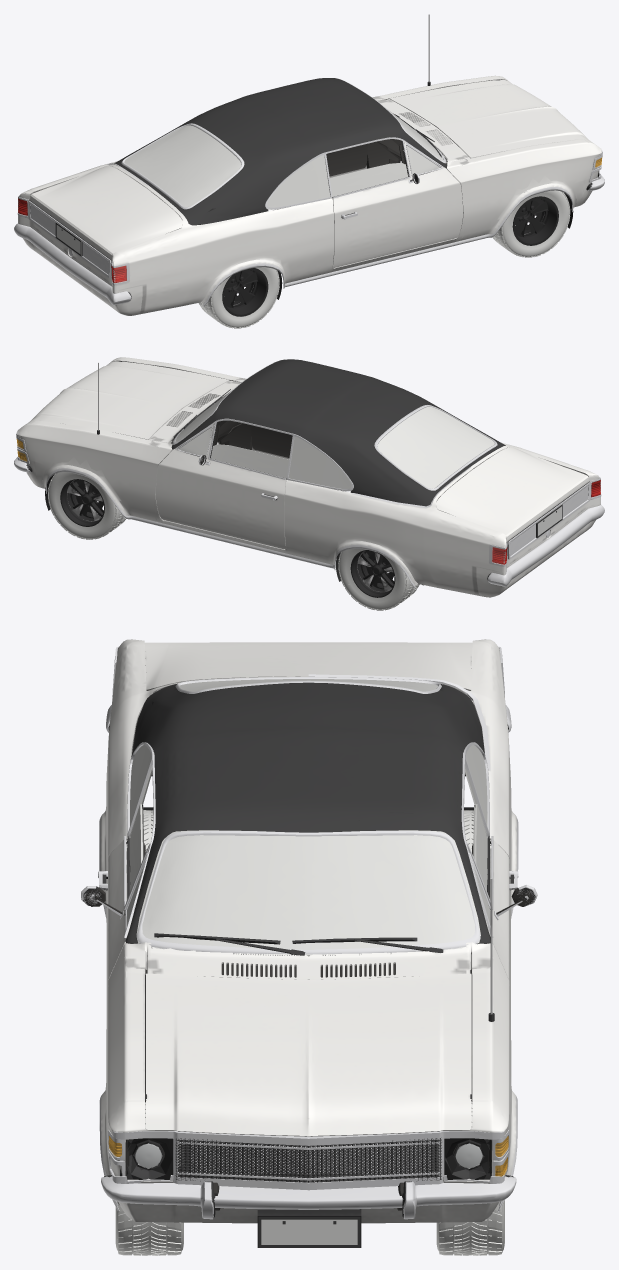
Rendered from gaucho-v8.glb.
3 renders of one model, top to bottom at view 1: azimuth 30°, elevation 25°; view 2: azimuth 150°, elevation 25°; view 3: azimuth 270°, elevation 25°, orthographic. The views are drawn at different scales.
Parts seen in each view (by area): view 1: body, door_fr, trunk, hood, fender_front_right, glass_rear, bumper_rear, wheel_fr_rim, wheel_rr_rim, glass_door_rr, wheel_fr_tire, wheel_rr_tire (+4 smaller); view 2: body, door_fl, trunk, hood, fender_front_left, glass_rear, bumper_rear, wheel_fl_rim, wheel_rl_rim, glass_door_rl, wheel_fl_tire, wheel_rl_tire (+5 smaller); view 3: body, hood, glass_windshield, bumper_front, trunk, fender_front_right, fender_front_left, plate_front, door_fr, door_fl, wheel_fl_tire, wheel_fr_tire (+7 smaller).
Boxes of the visible parts, bbox=[...] form: body: bbox=[18, 14, 602, 314]; door_fr: bbox=[332, 140, 462, 267]; trunk: bbox=[29, 165, 183, 277]; hood: bbox=[389, 80, 588, 158]; fender_front_right: bbox=[460, 139, 592, 244]; glass_rear: bbox=[124, 125, 241, 206]; bumper_rear: bbox=[14, 221, 142, 315]; wheel_fr_rim: bbox=[510, 193, 561, 248]; wheel_rr_rim: bbox=[221, 267, 271, 319]; glass_door_rr: bbox=[266, 155, 330, 209]; wheel_fr_tire: bbox=[492, 190, 570, 257]; wheel_rr_tire: bbox=[198, 267, 279, 328]; body: bbox=[16, 357, 600, 595]; door_fl: bbox=[156, 422, 286, 549]; trunk: bbox=[435, 447, 589, 559]; hood: bbox=[30, 361, 229, 439]; fender_front_left: bbox=[26, 420, 158, 525]; glass_rear: bbox=[377, 406, 494, 488]; bumper_rear: bbox=[476, 503, 604, 597]; wheel_fl_rim: bbox=[56, 475, 107, 530]; wheel_rl_rim: bbox=[346, 548, 398, 601]; glass_door_rl: bbox=[288, 436, 351, 491]; wheel_fl_tire: bbox=[48, 472, 125, 539]; wheel_rl_tire: bbox=[338, 548, 419, 610]; body: bbox=[85, 639, 532, 1212]; hood: bbox=[146, 973, 471, 1136]; glass_windshield: bbox=[126, 830, 490, 955]; bumper_front: bbox=[101, 1157, 516, 1223]; trunk: bbox=[144, 642, 472, 690]; fender_front_right: bbox=[106, 958, 152, 1174]; fender_front_left: bbox=[466, 958, 511, 1158]; plate_front: bbox=[257, 1209, 361, 1247]; door_fr: bbox=[98, 836, 150, 1019]; door_fl: bbox=[466, 836, 518, 1025]; wheel_fl_tire: bbox=[436, 1102, 504, 1255]; wheel_fr_tire: bbox=[115, 1102, 183, 1255].
Bounding box in the file's own units: 4.6 × 1.55 × 1.81.
11 materials, 6 textured.
